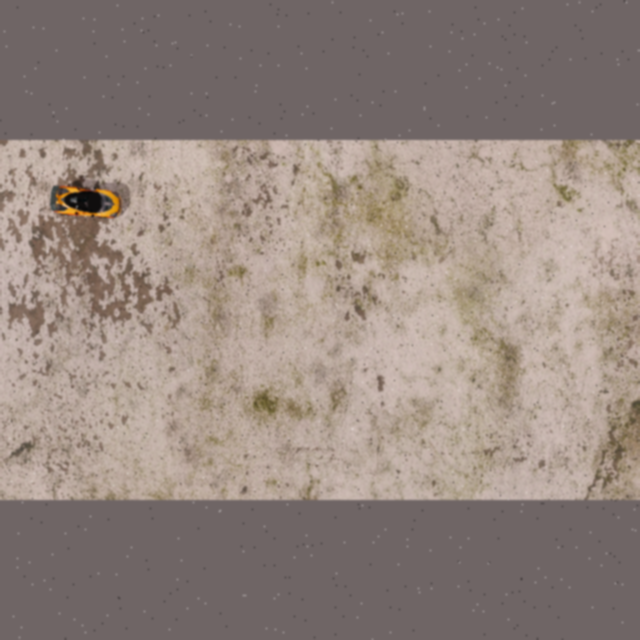car: (47, 182, 122, 221)
